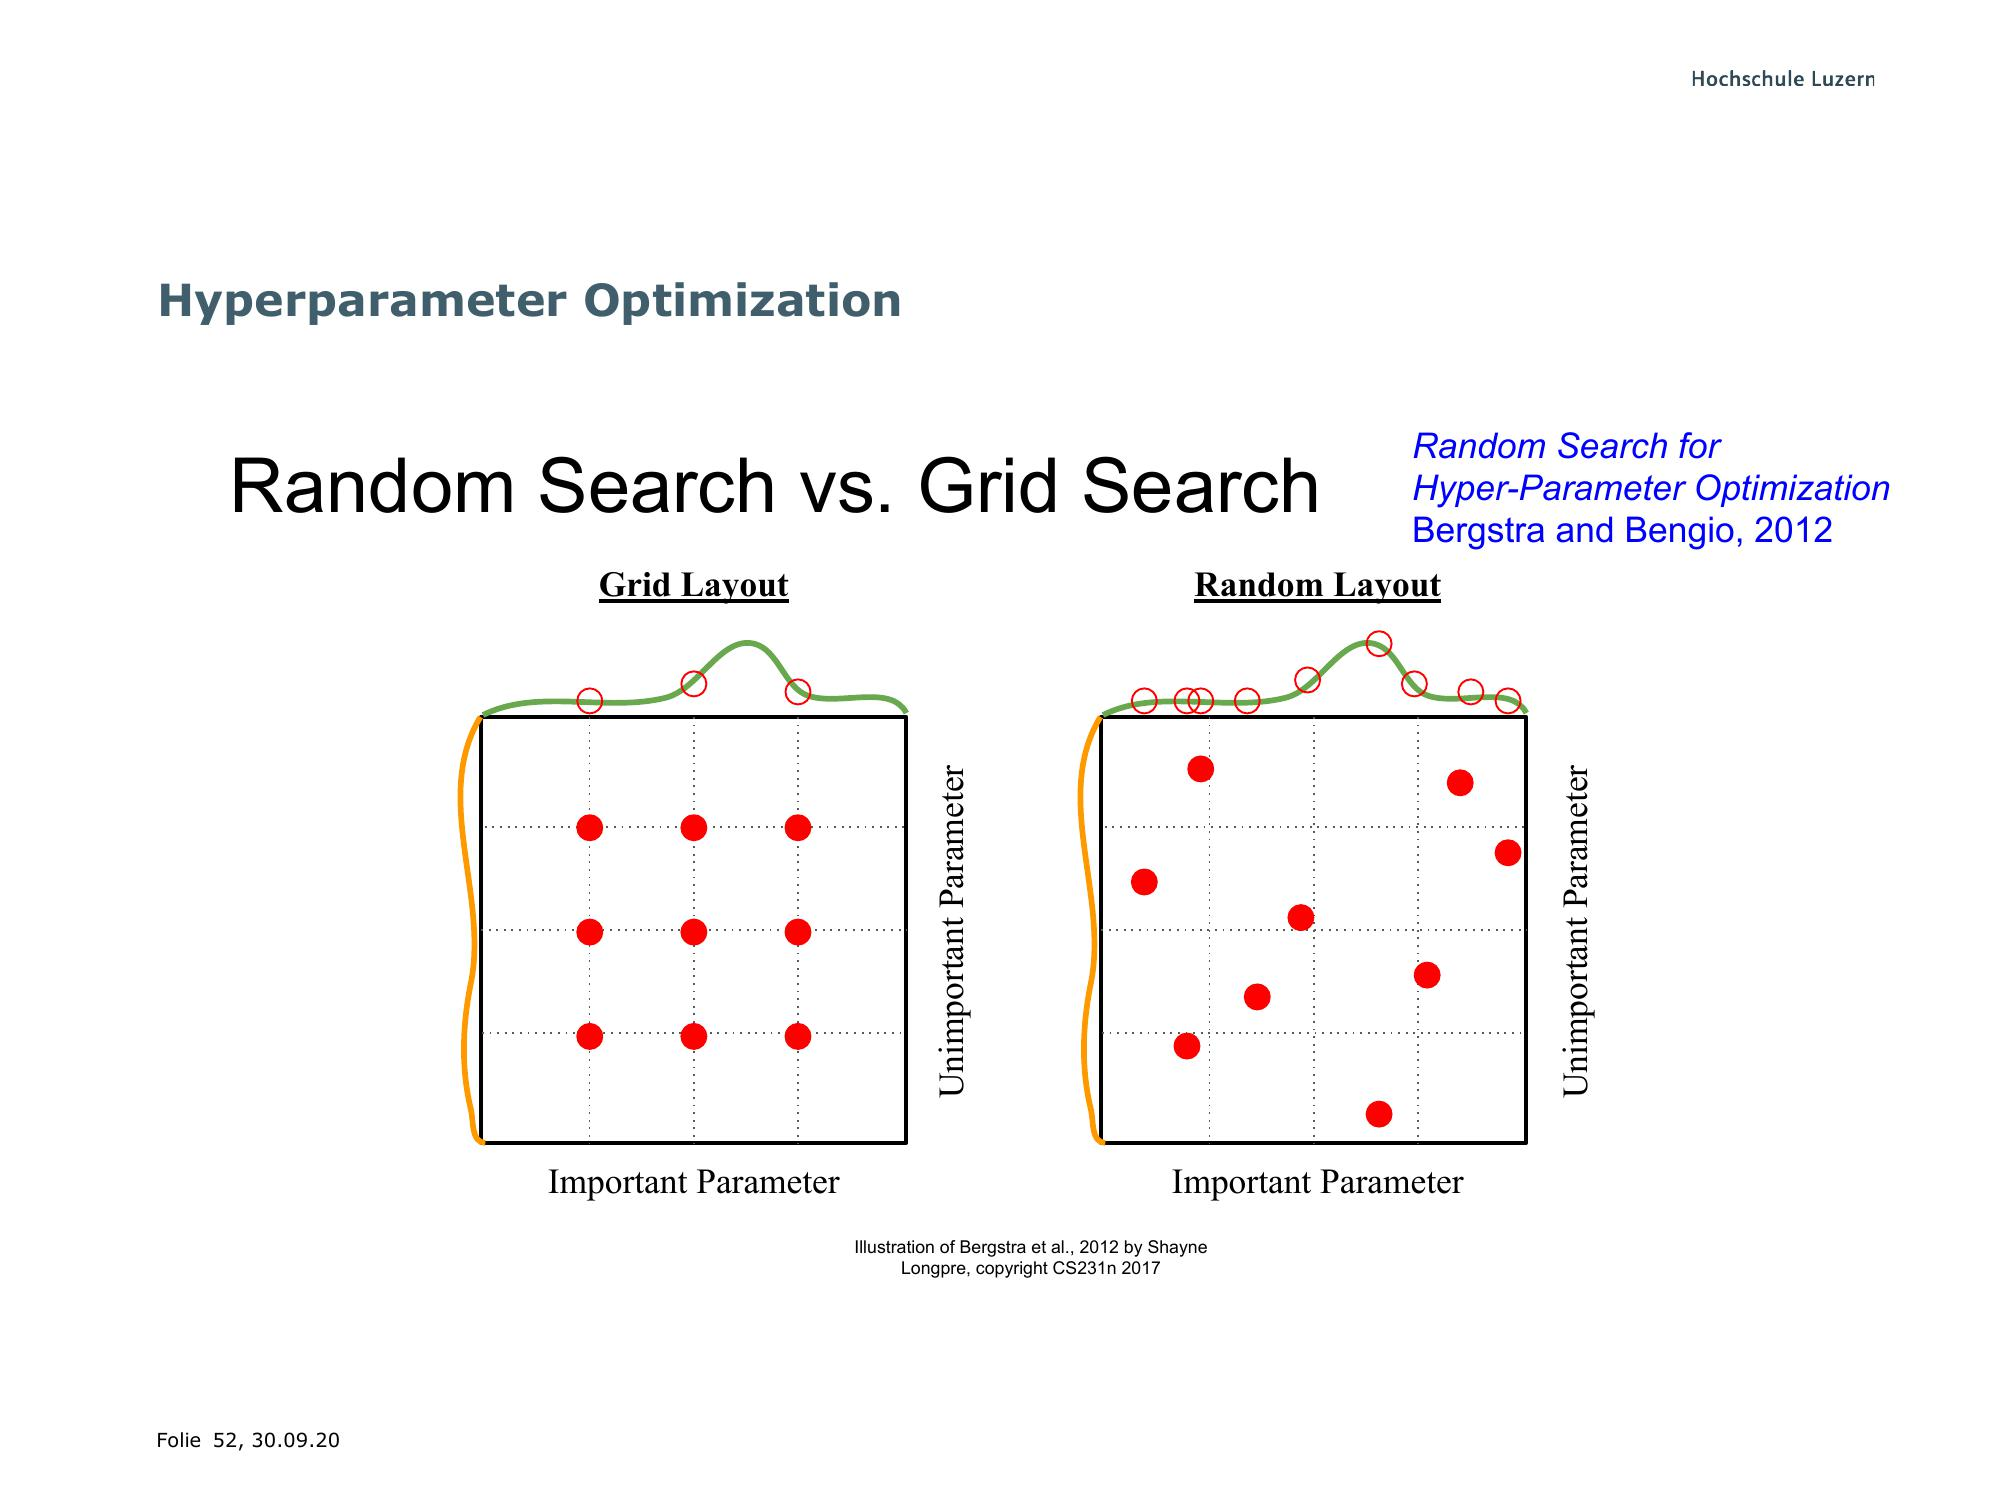Title: (135, 254, 907, 339)
